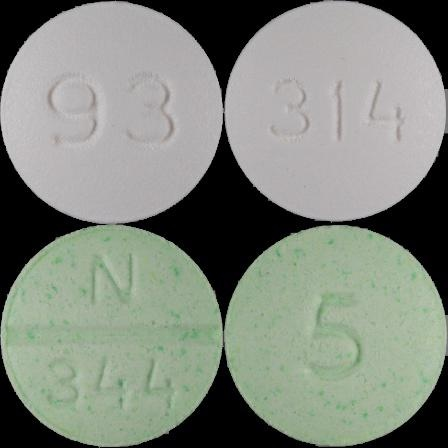55154-8264: (0, 0, 224, 224)
